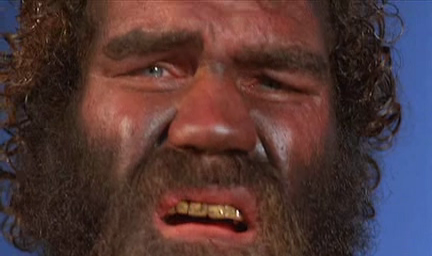ecu: (1, 1, 432, 256)
face: (79, 1, 341, 256)
person: (1, 1, 408, 256)
